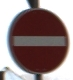No entry: (6, 7, 66, 73)
